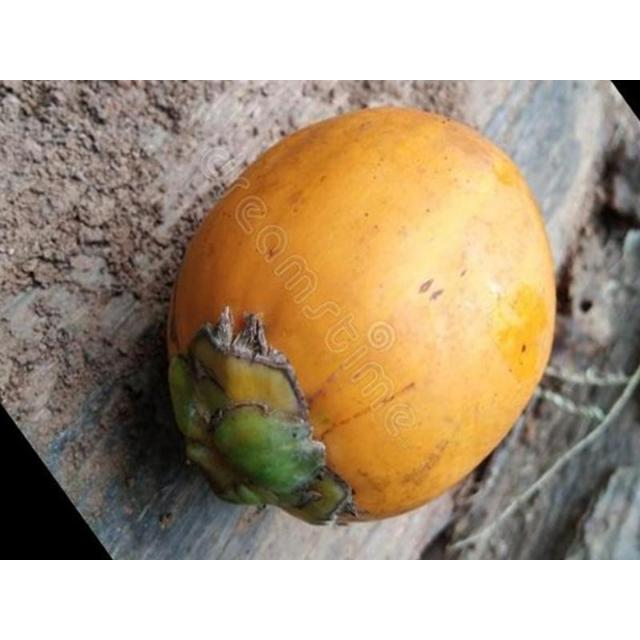good: (162, 106, 557, 530)
